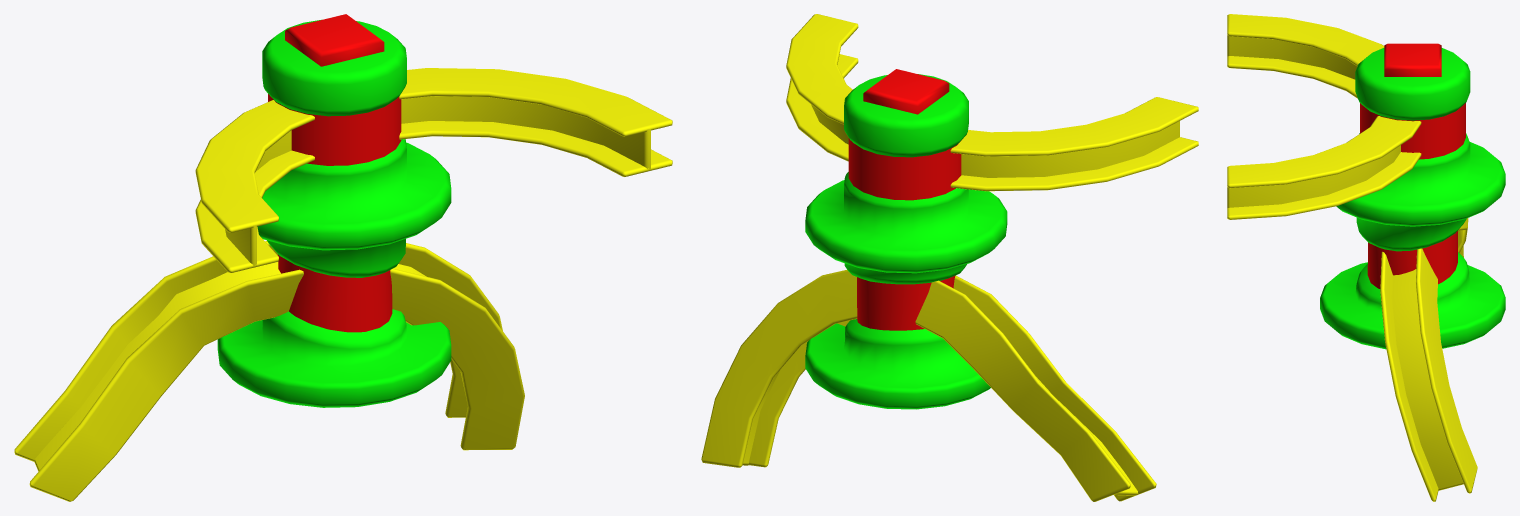
File: spaceDebri_01.obj
The picture shows the model from 3 angles, left to right: view 1: azimuth 30°, elevation 25°; view 2: azimuth 150°, elevation 25°; view 3: azimuth 270°, elevation 25°; orthographic projection. The views are drawn at different scales.
Parts seen in each view (by area): view 1: spaceDebri_01 debri_grp; view 2: spaceDebri_01 debri_grp; view 3: spaceDebri_01 debri_grp.
Boxes of the visible parts, box(x1,y1,x2,y2) form: spaceDebri_01 debri_grp: box(14, 14, 672, 501); spaceDebri_01 debri_grp: box(701, 14, 1198, 501); spaceDebri_01 debri_grp: box(1227, 14, 1505, 501).
Bounding box in the file's own units: 824 × 719 × 485.
